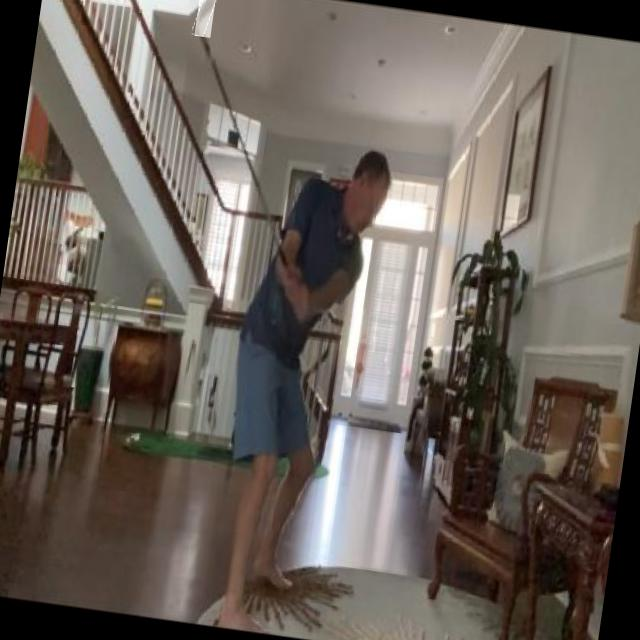club head: (194, 0, 217, 38)
